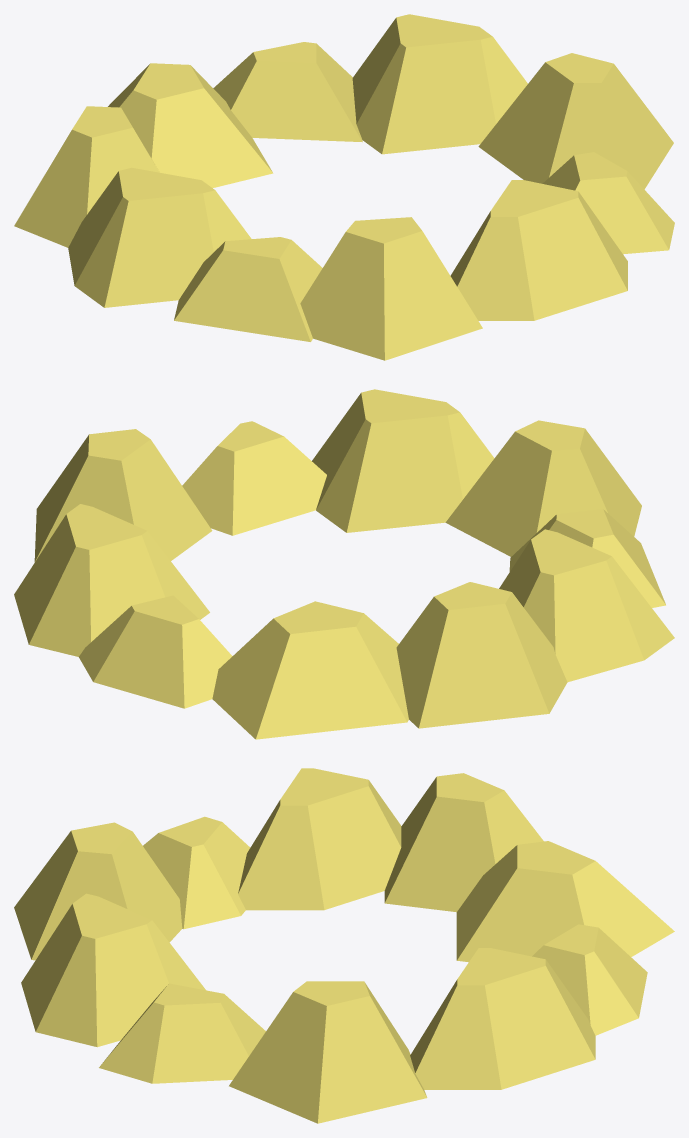
File: FertilizerY.fbx
3 views of the same model, one above another, from view 1: azimuth 30°, elevation 25°; view 2: azimuth 150°, elevation 25°; view 3: azimuth 270°, elevation 25° (orthographic). The views are drawn at different scales.
Visible parts, largest first — view 1: campfire_stones; view 2: campfire_stones; view 3: campfire_stones.
Part boxes in pixels (<box>): campfire_stones: <box>14,14,674,360</box>; campfire_stones: <box>14,389,674,739</box>; campfire_stones: <box>14,768,674,1123</box>.
Size of the model in its own units: 13.52 by 1.94 by 12.89.
